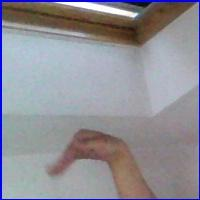del: (44, 126, 131, 186)
